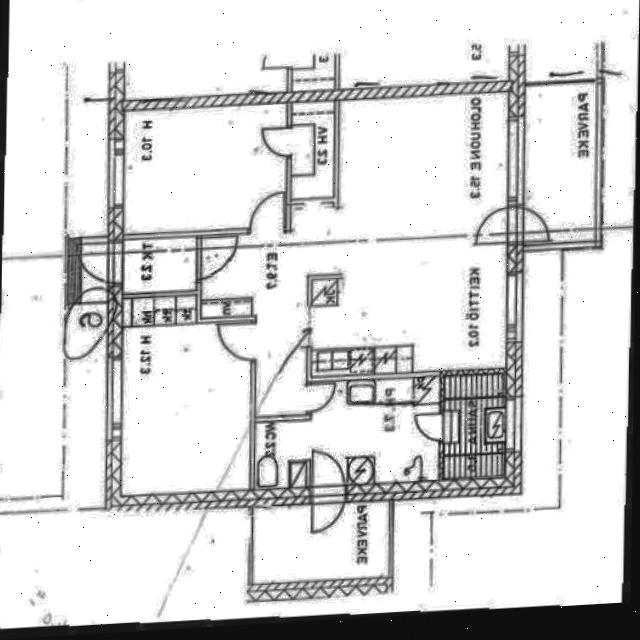room: (119, 294, 251, 498), (249, 375, 444, 489), (119, 104, 290, 233), (248, 501, 392, 584), (523, 82, 595, 245), (443, 374, 505, 480), (120, 236, 198, 293), (291, 100, 333, 199)
